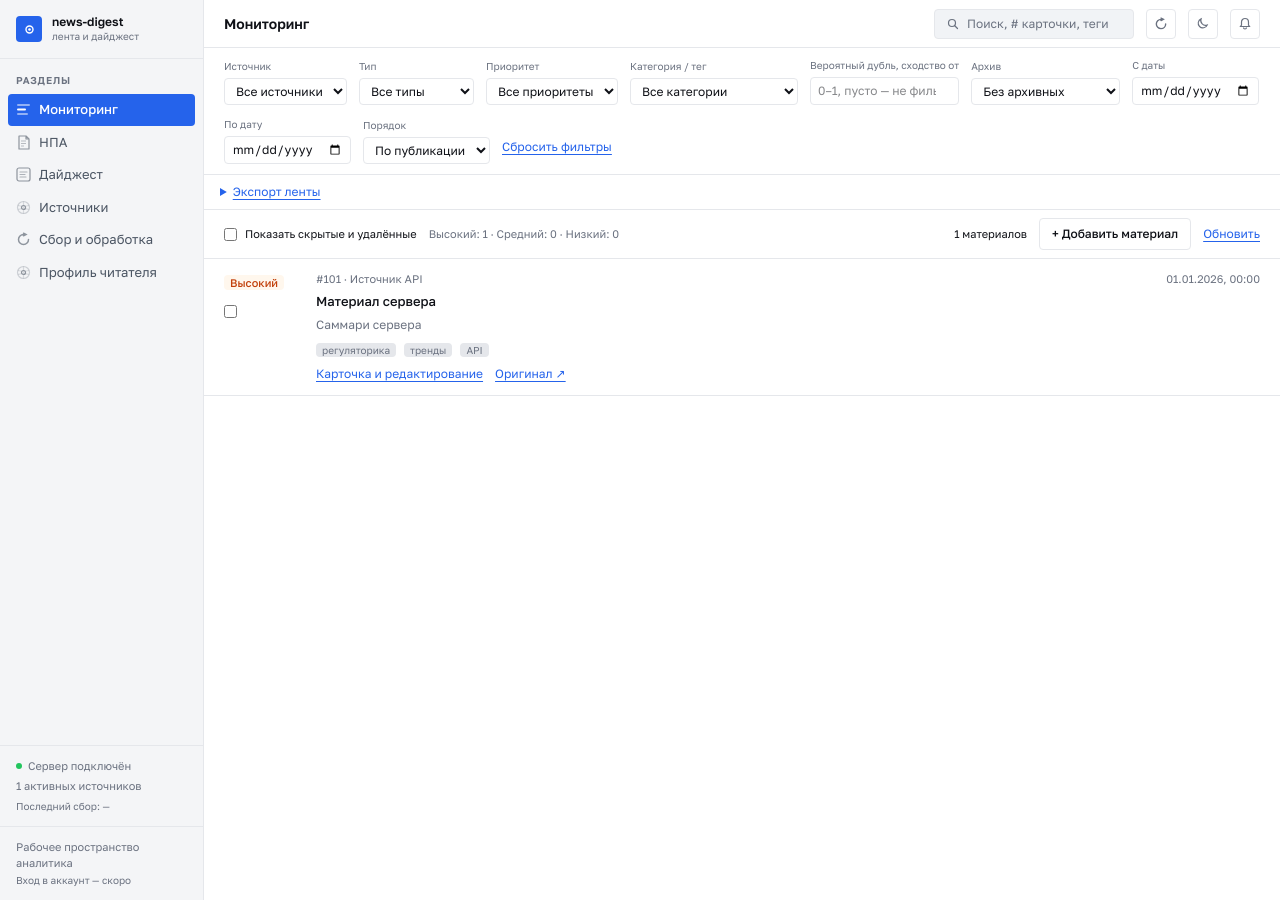
server-side feed filters and pagination › submits selected IDs for bulk digest exclusion
Click the checkbox named "Выбрать материал 101": (230, 311) x1=224 y1=304 x2=237 y2=318
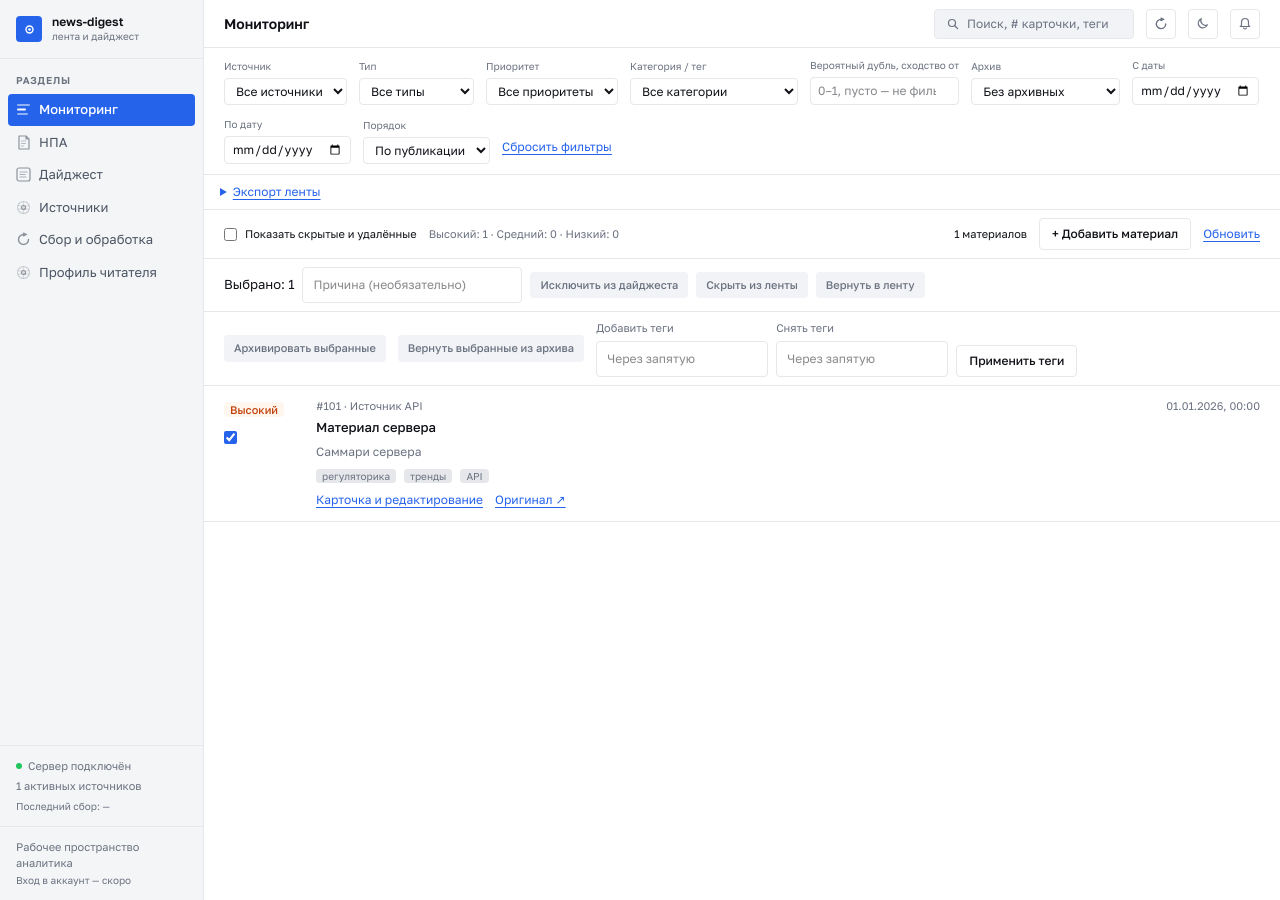
Click the button "Исключить из дайджеста": (609, 285) x1=530 y1=272 x2=688 y2=298
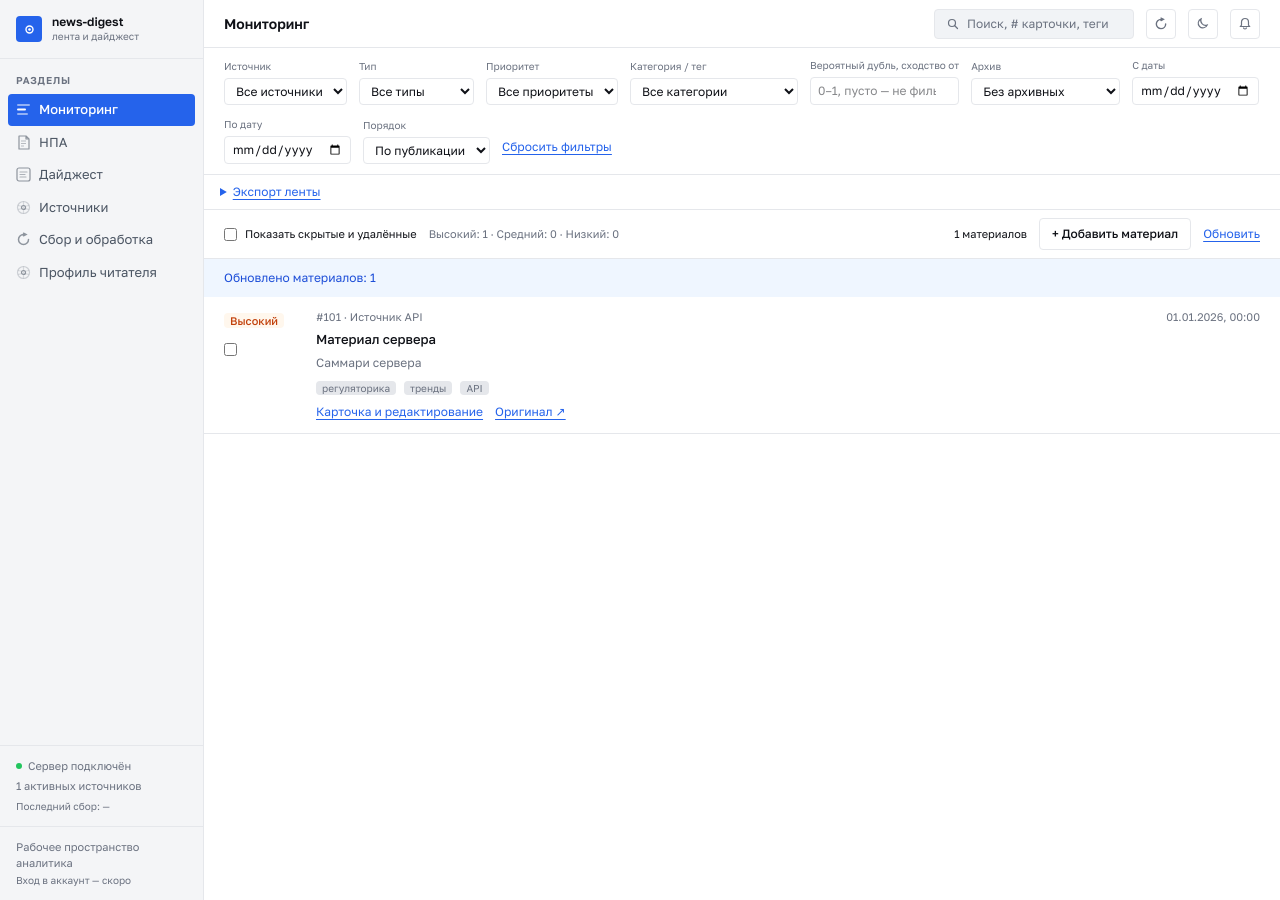
Check: the text "Обновлено материалов: 1" is shown, box x1=204 y1=259 x2=1279 y2=297
